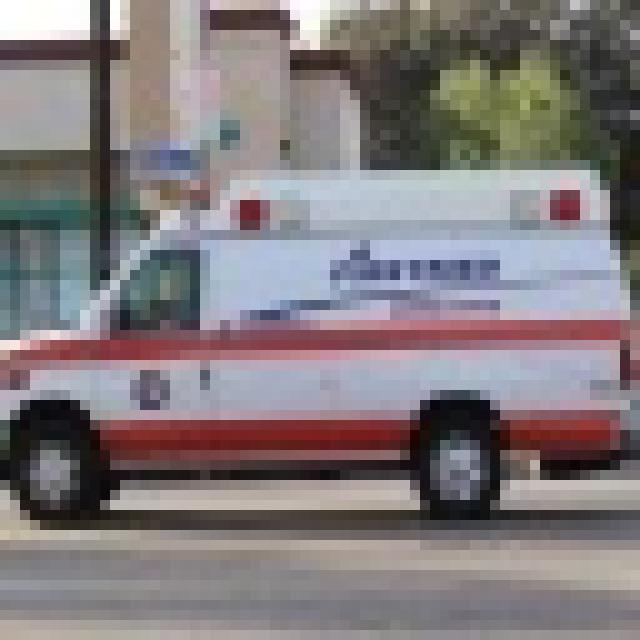ambulance: (0, 160, 630, 520)
